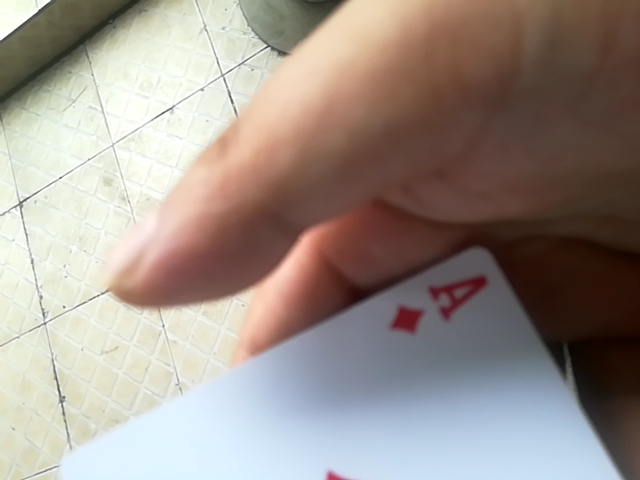fk a: (16, 247, 640, 479)
